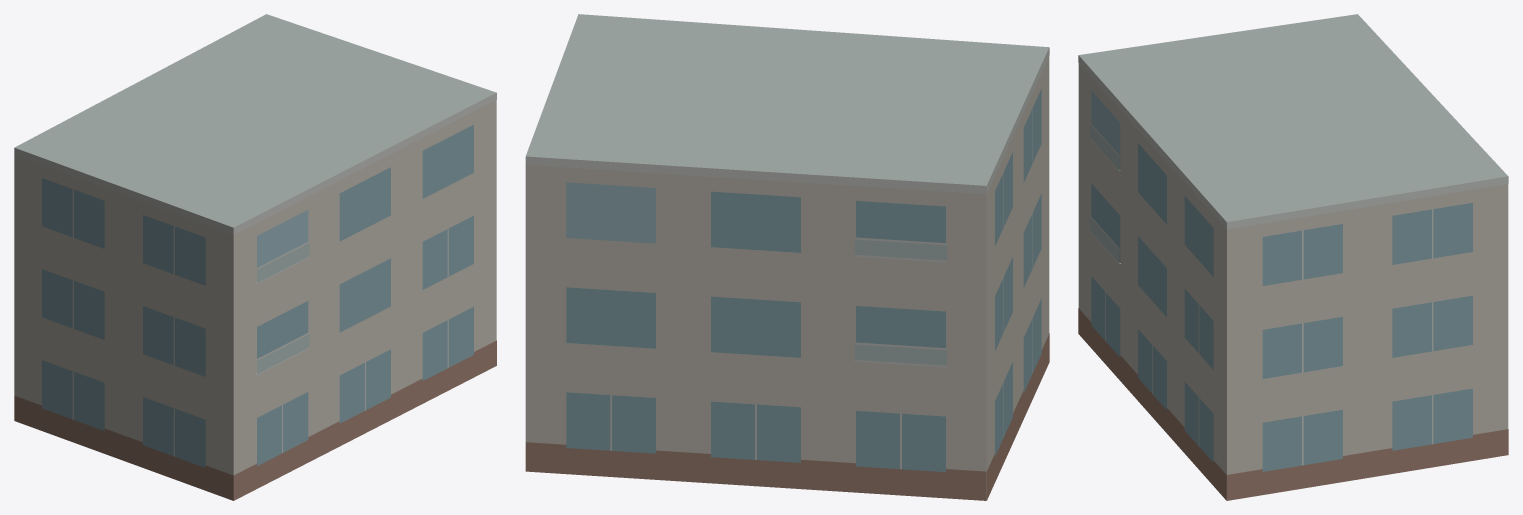
Rendered from survey-upis-32906620.glb.
3 renders of one model, left to right at view 1: azimuth 30°, elevation 25°; view 2: azimuth 150°, elevation 25°; view 3: azimuth 270°, elevation 25°, orthographic. The views are drawn at different scales.
Visible parts, largest first — view 1: survey-upis-32906620.tmp; view 2: survey-upis-32906620.tmp; view 3: survey-upis-32906620.tmp.
Part boxes in pixels (x1=…): survey-upis-32906620.tmp: x1=14, y1=14, x2=496, y2=500; survey-upis-32906620.tmp: x1=525, y1=14, x2=1049, y2=500; survey-upis-32906620.tmp: x1=1078, y1=14, x2=1508, y2=500.
Bounding box in the file's own units: 14.67 × 9.15 × 12.8.
